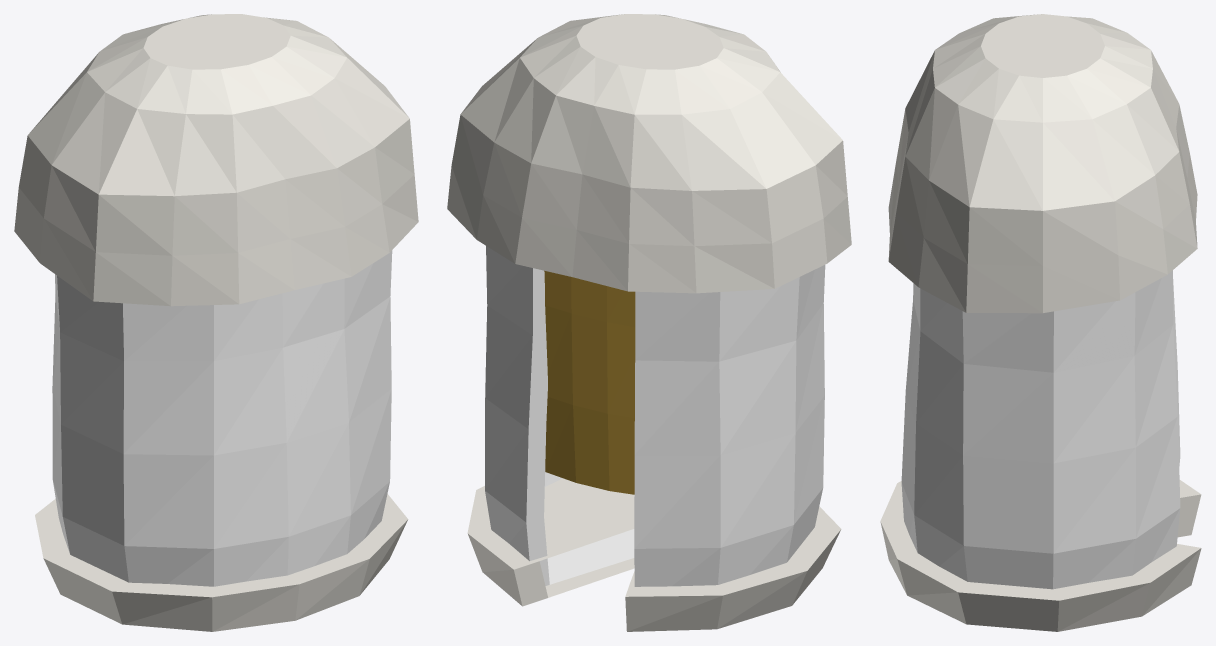
Rendered from vfem2_thin_kings_robes.obj.
3 renders of one model, left to right at view 1: azimuth 30°, elevation 25°; view 2: azimuth 150°, elevation 25°; view 3: azimuth 270°, elevation 25°, orthographic.
Visible parts, largest first — view 1: vfem2_thin_kings_robes; view 2: vfem2_thin_kings_robes; view 3: vfem2_thin_kings_robes.
Part boxes in pixels (x1,y1,x2,y2): vfem2_thin_kings_robes: (14, 14, 418, 631); vfem2_thin_kings_robes: (447, 14, 851, 631); vfem2_thin_kings_robes: (880, 14, 1201, 631).
Bounding box in the file's own units: 0.5605 × 0.79 × 0.4473.
